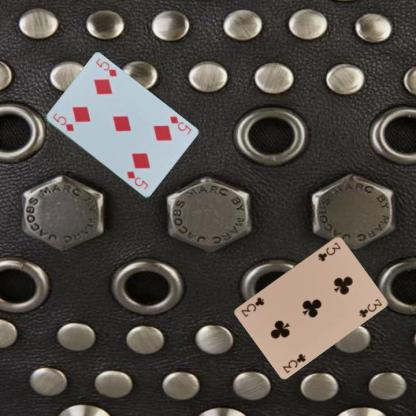3c: (280, 351, 307, 374), (316, 240, 342, 262)
5d: (50, 110, 75, 133), (167, 113, 192, 136)
